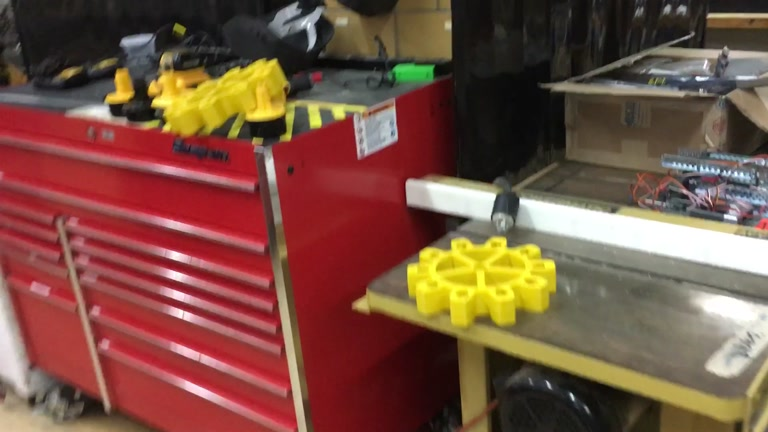gear: (406, 237, 556, 328), (164, 56, 290, 138)
